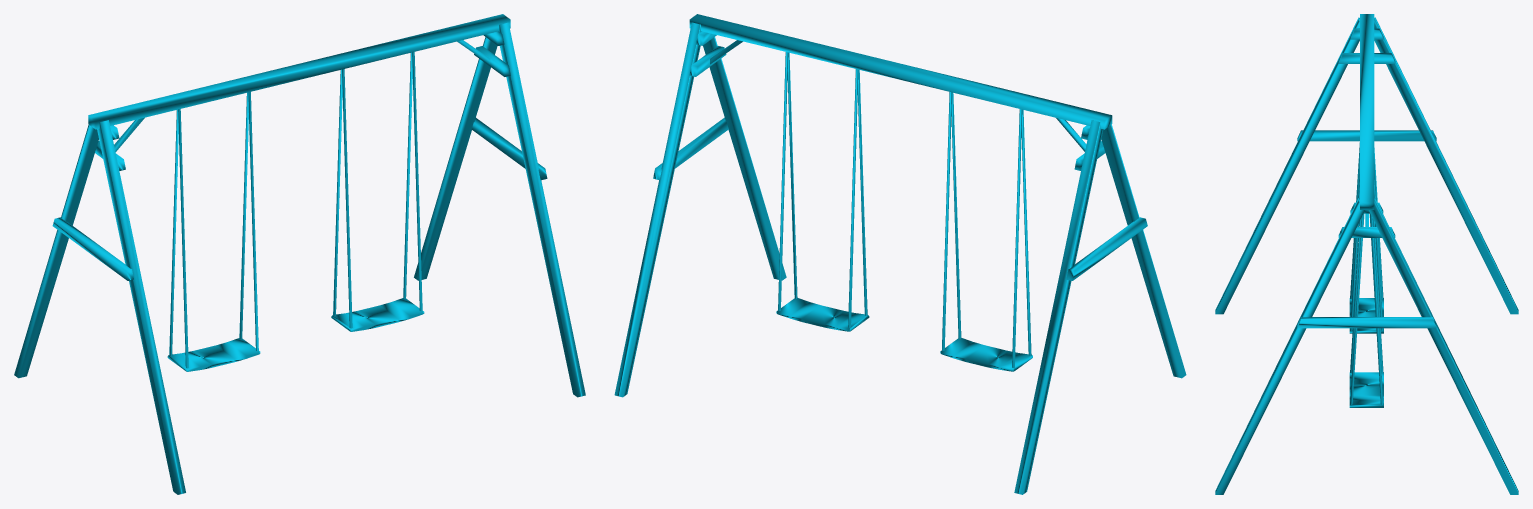
Rendered from Recreation_3.fbx.
3 views of the same model, side by side, from view 1: azimuth 30°, elevation 25°; view 2: azimuth 150°, elevation 25°; view 3: azimuth 270°, elevation 25° (orthographic). The views are drawn at different scales.
Visible parts, largest first — view 1: Recreation_3; view 2: Recreation_3; view 3: Recreation_3.
Boxes of the visible parts, <box> form: Recreation_3: <box>14,14,585,494</box>; Recreation_3: <box>614,14,1186,494</box>; Recreation_3: <box>1215,14,1518,494</box>.
Bounding box in the file's own units: 4744 × 3435 × 3207.
